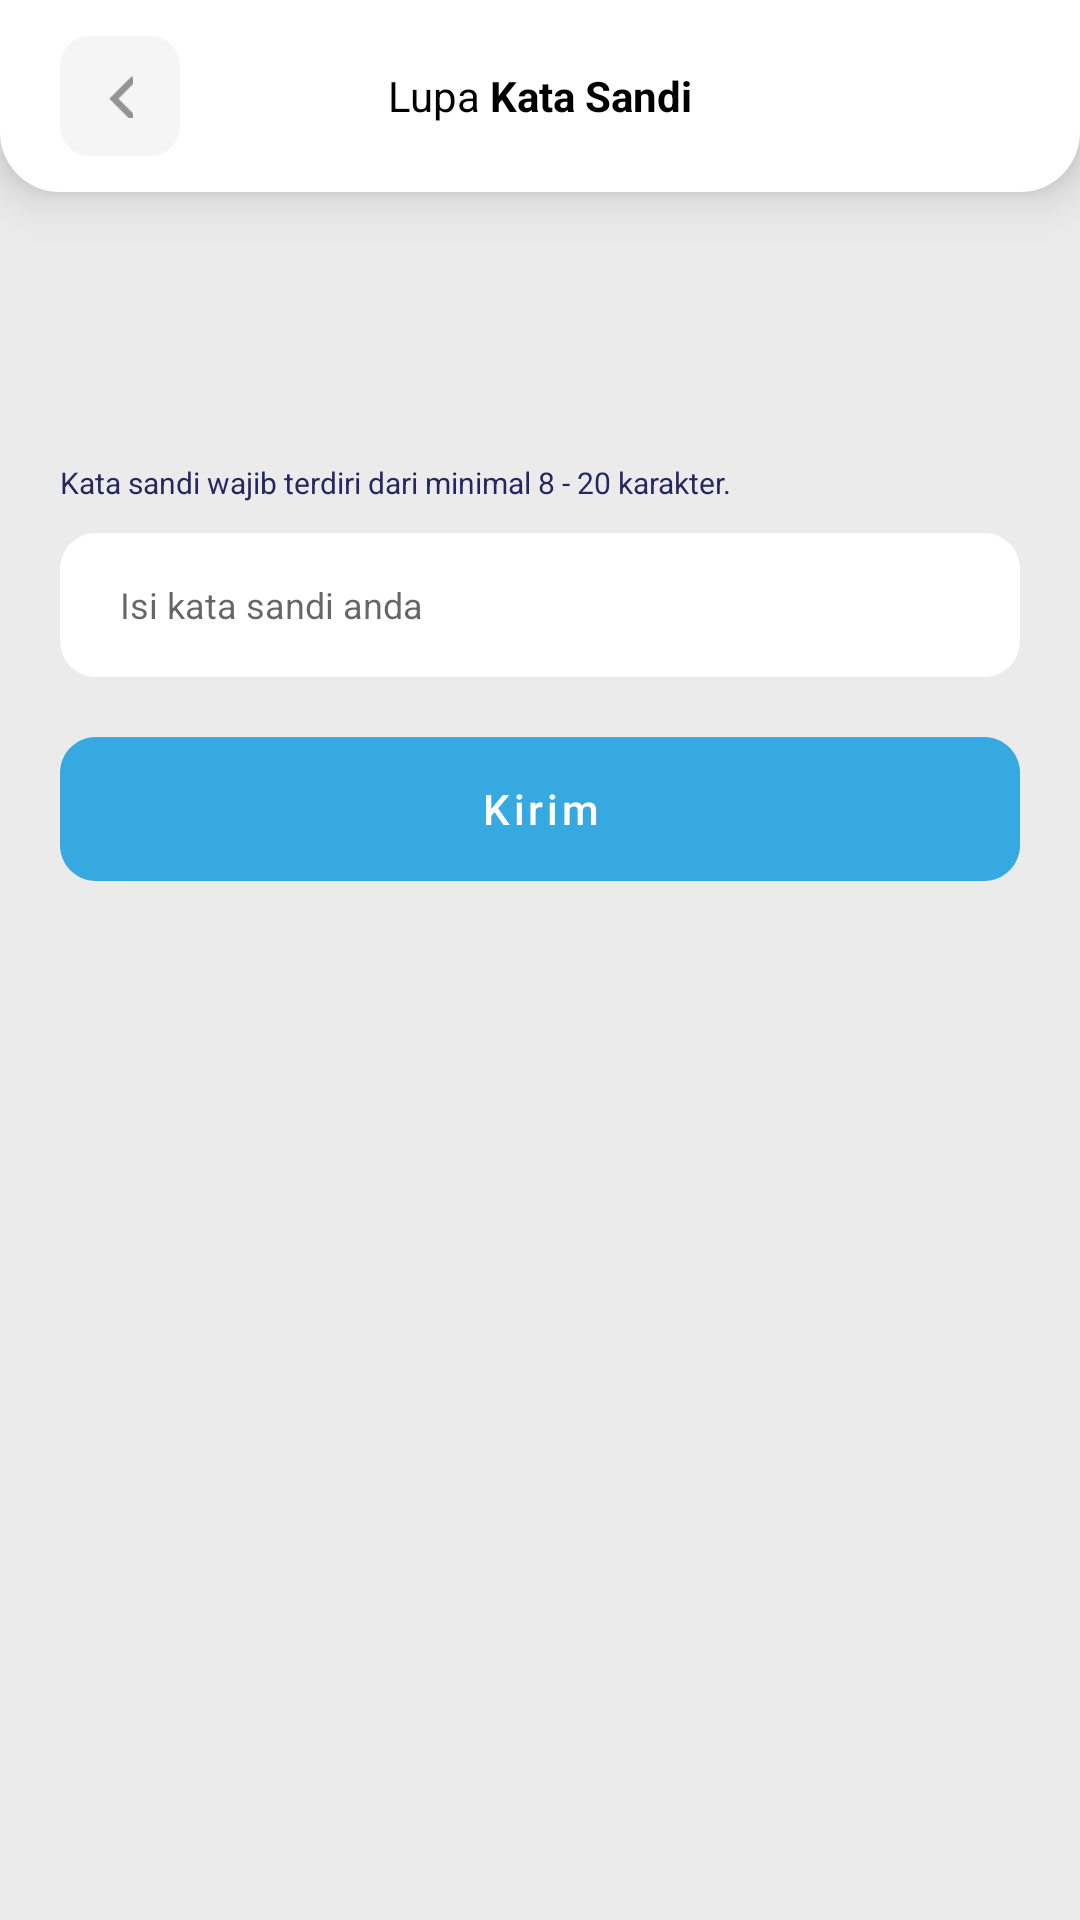

Where to tap for icons on this 1080*1920 app screen, as (x,y):
back: (121,97)
